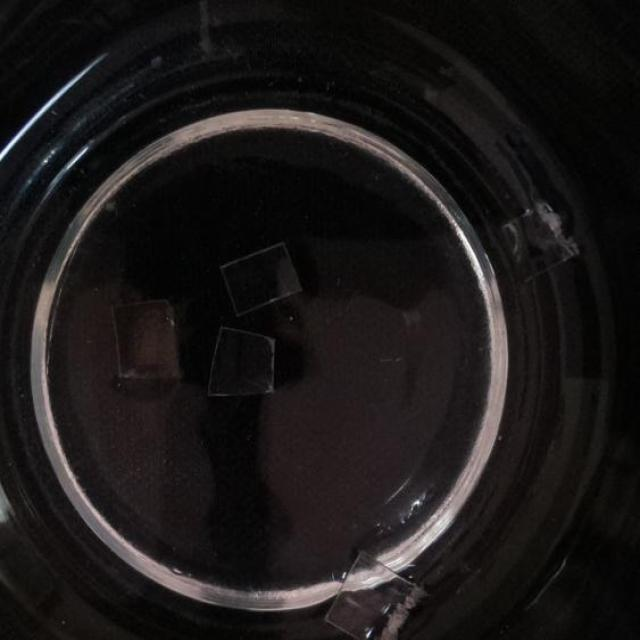fiber: (318, 550, 431, 638), (490, 198, 579, 284), (106, 294, 185, 390), (215, 242, 306, 318), (202, 324, 278, 406)
